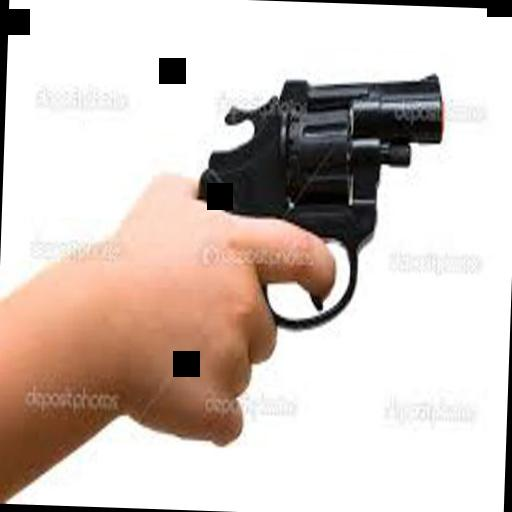Handgun: (184, 64, 448, 340)
